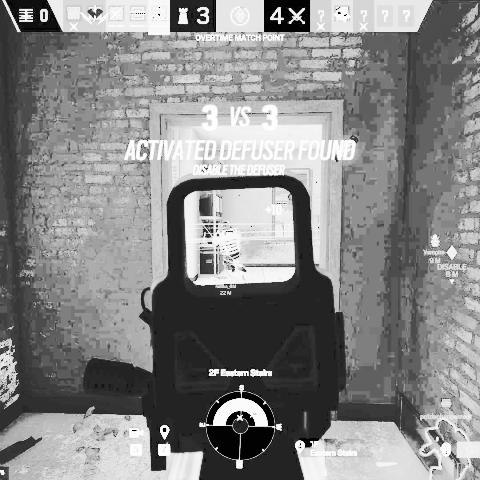Character: (212, 221, 250, 282)
Friend_label: (420, 398, 473, 420)
Head: (220, 220, 232, 232)
